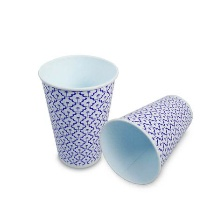paper_cup: (33, 50, 122, 173), (93, 91, 197, 189)
